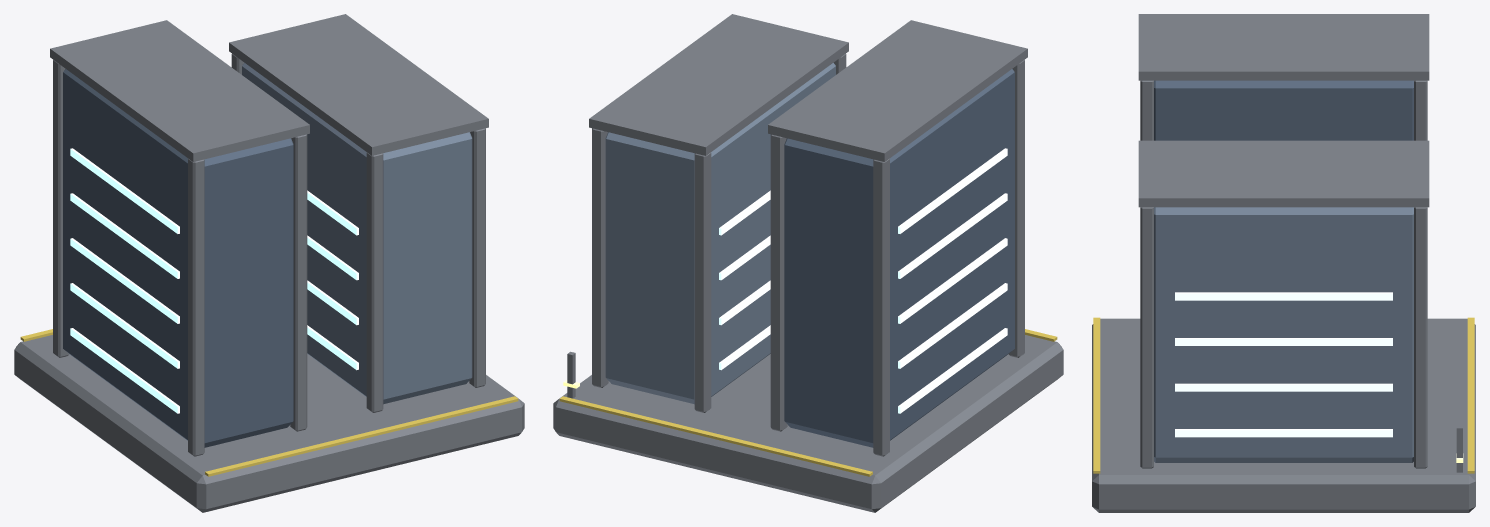
Rendered from zone_high_2_t1.glb.
3 views of the same model, side by side, from view 1: azimuth 30°, elevation 25°; view 2: azimuth 150°, elevation 25°; view 3: azimuth 270°, elevation 25° (orthographic).
Parts seen in each view (by area): view 1: zone_high_2_t1, detail; view 2: zone_high_2_t1, detail; view 3: zone_high_2_t1, detail.
Boxes of the visible parts, box(x1,y1,x2,y2) form: zone_high_2_t1: box(14, 14, 524, 512); detail: box(20, 329, 518, 476); zone_high_2_t1: box(553, 14, 1063, 512); detail: box(559, 329, 1057, 476); zone_high_2_t1: box(1092, 14, 1475, 512); detail: box(1093, 317, 1474, 473).
Bounding box in the file's own units: 27.5 × 27.48 × 27.5.
